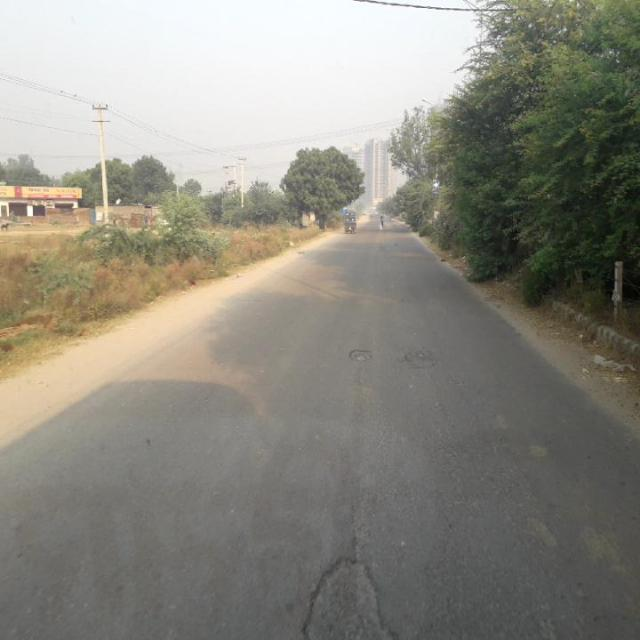D40: (287, 546, 400, 634), (345, 340, 381, 370), (400, 342, 436, 372)
